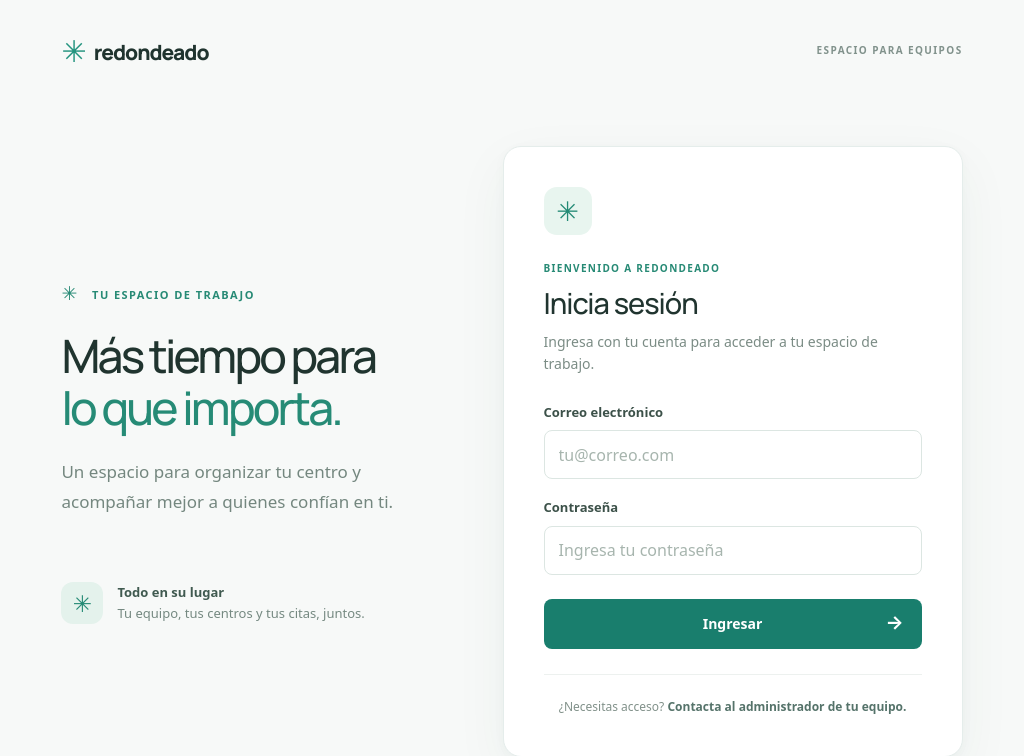
Scenario: keeps the workspace loaded when auth repeats SIGNED_IN after tab focus
The image size is (1024, 756).
Type "member@example.com" into the field labelled "Correo electrónico" at point(732, 455), box [544,430,922,479]
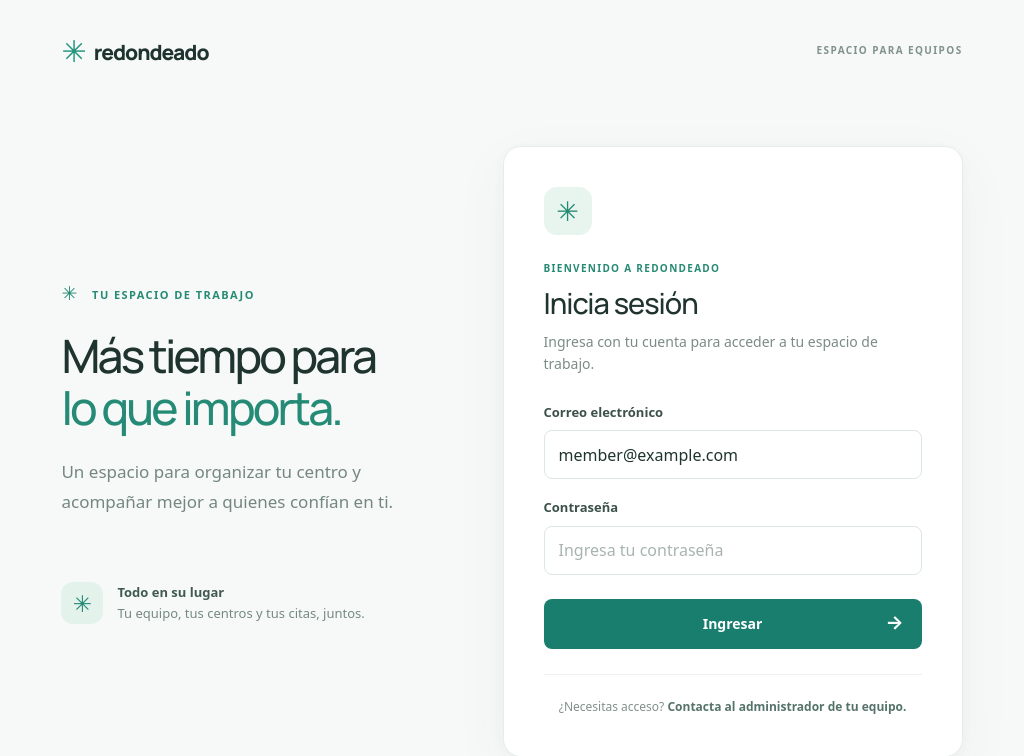
Type "password" into the password field labelled "Contraseña" at point(732, 550), box [544,526,922,575]
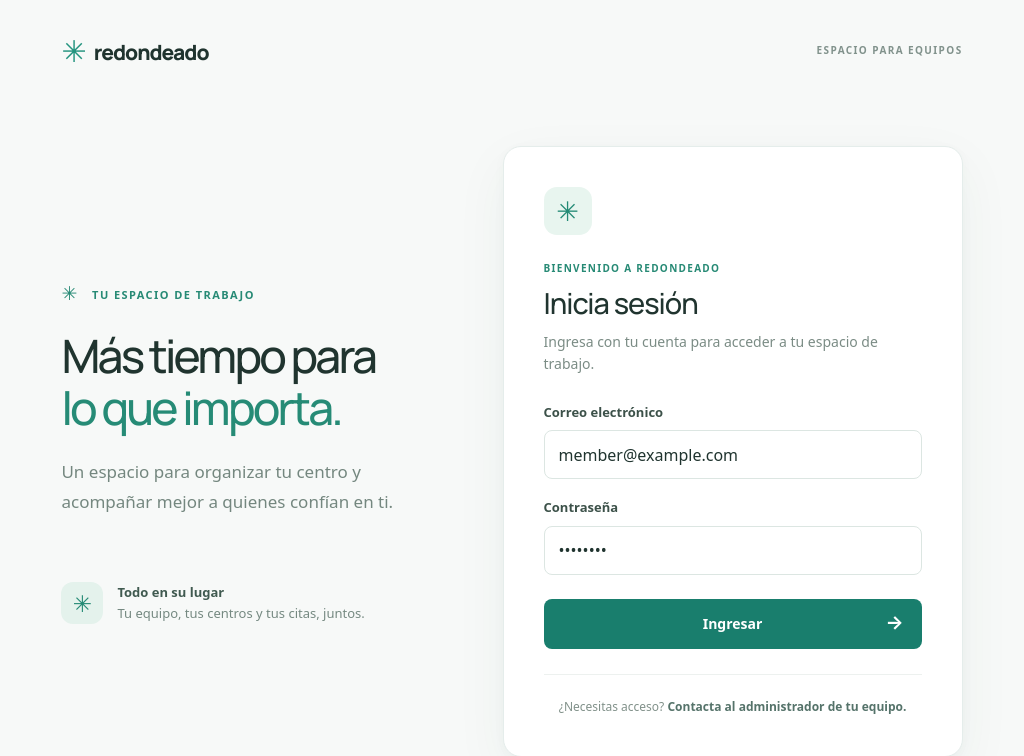
Click the button "Ingresar →" at point(732, 624), box [544,599,922,649]
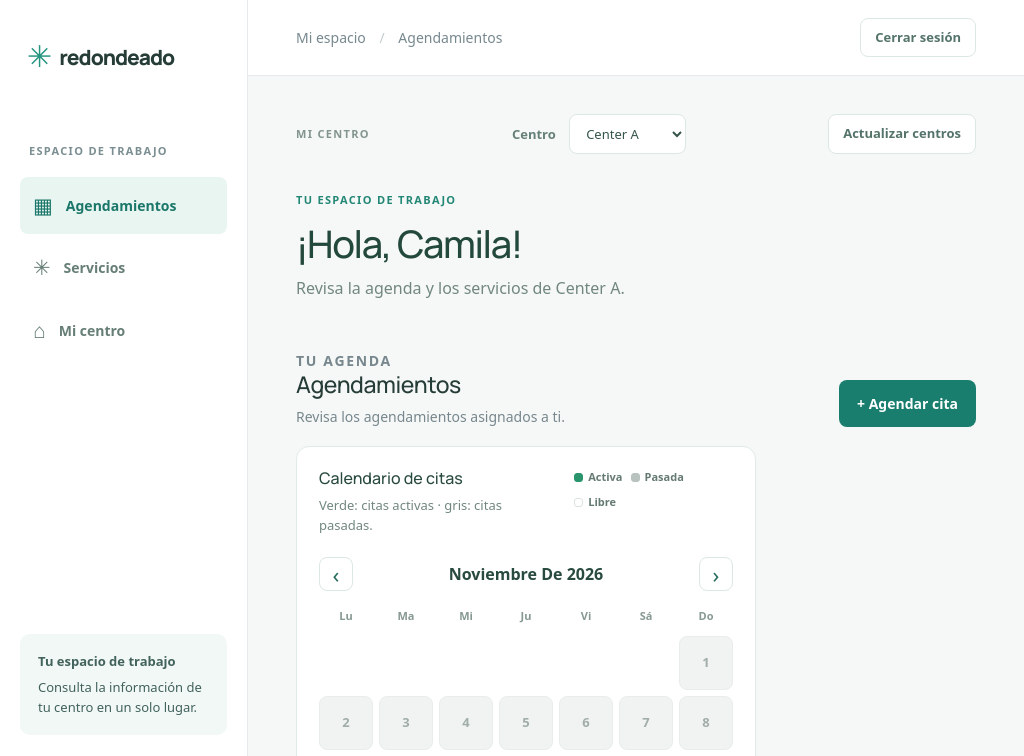
Check: the heading "Agendamientos" is shown, box [296,368,461,400]
Check: the dropdown labelled "Centro" shows "Center A", box [569,114,686,154]
Check: the heading "¡Hola, Camila!" is shown, box [296,216,522,268]
